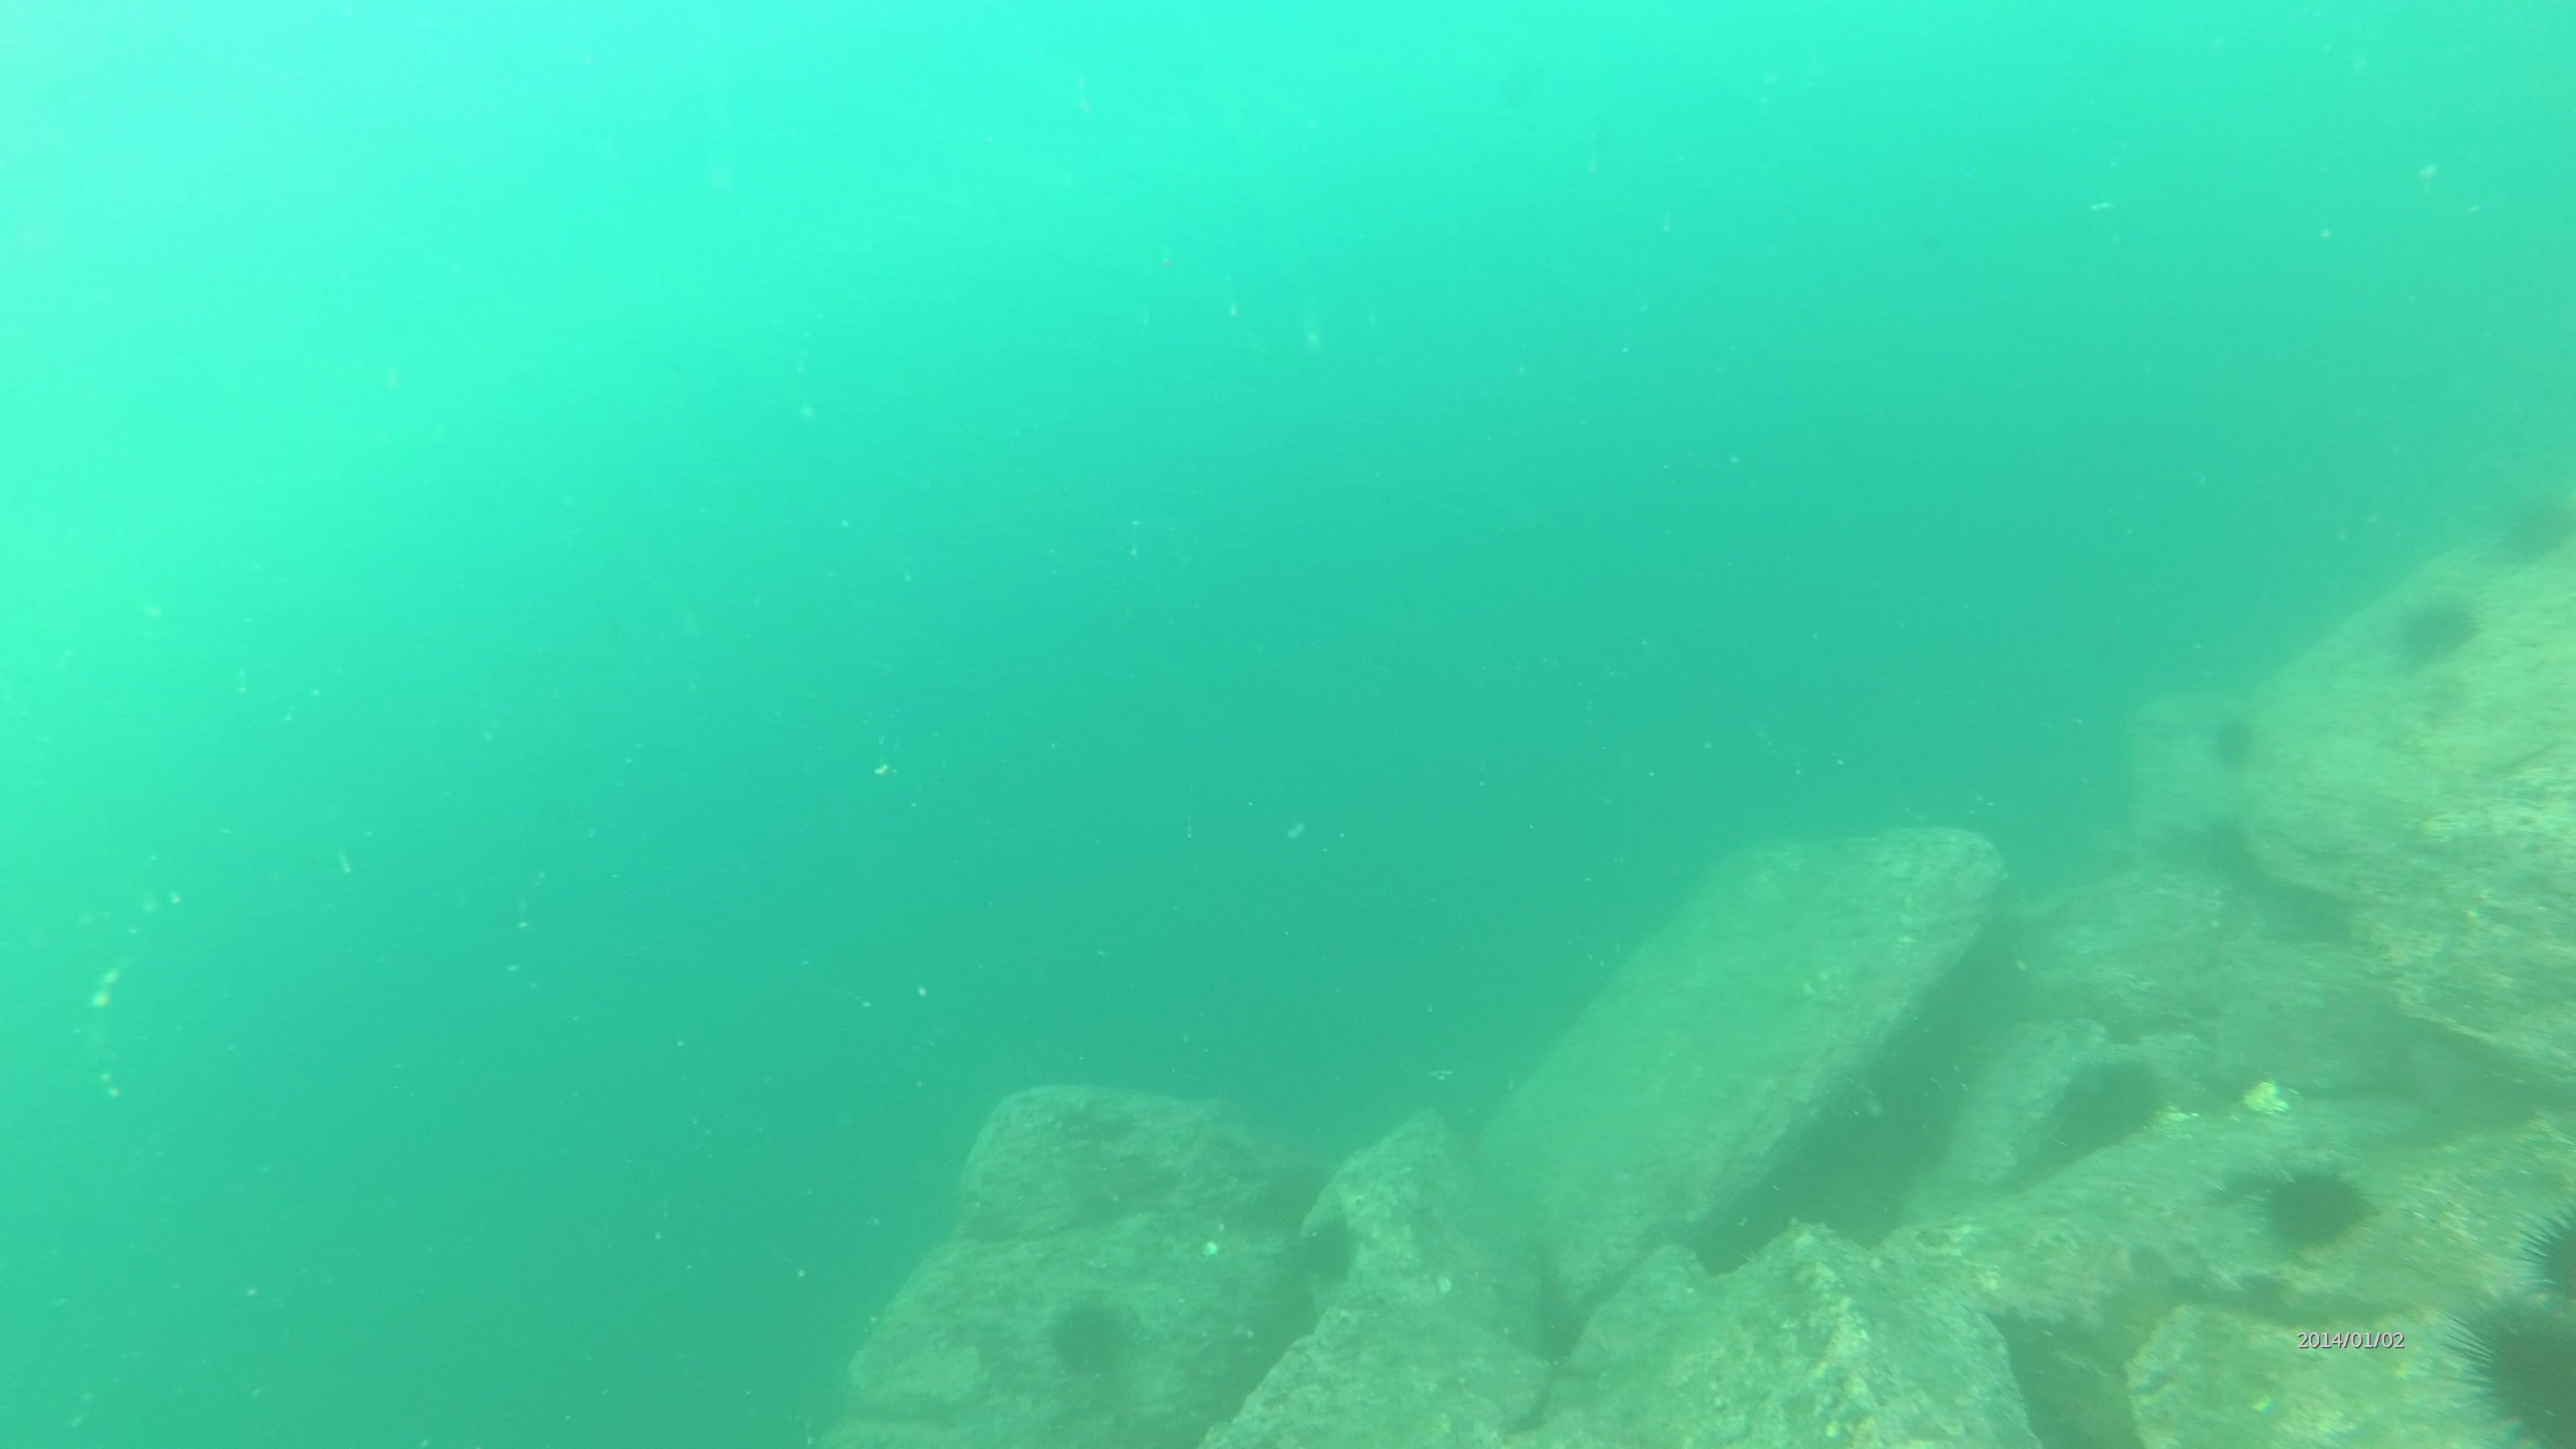echinus: (2429, 1274, 2576, 1449), (2243, 1150, 2373, 1265), (2066, 1060, 2167, 1152), (2493, 487, 2576, 573), (1042, 1295, 1123, 1380), (2519, 1189, 2576, 1299), (1288, 1214, 1369, 1288), (2410, 598, 2477, 671), (1263, 1161, 1336, 1226), (2210, 708, 2263, 770)
